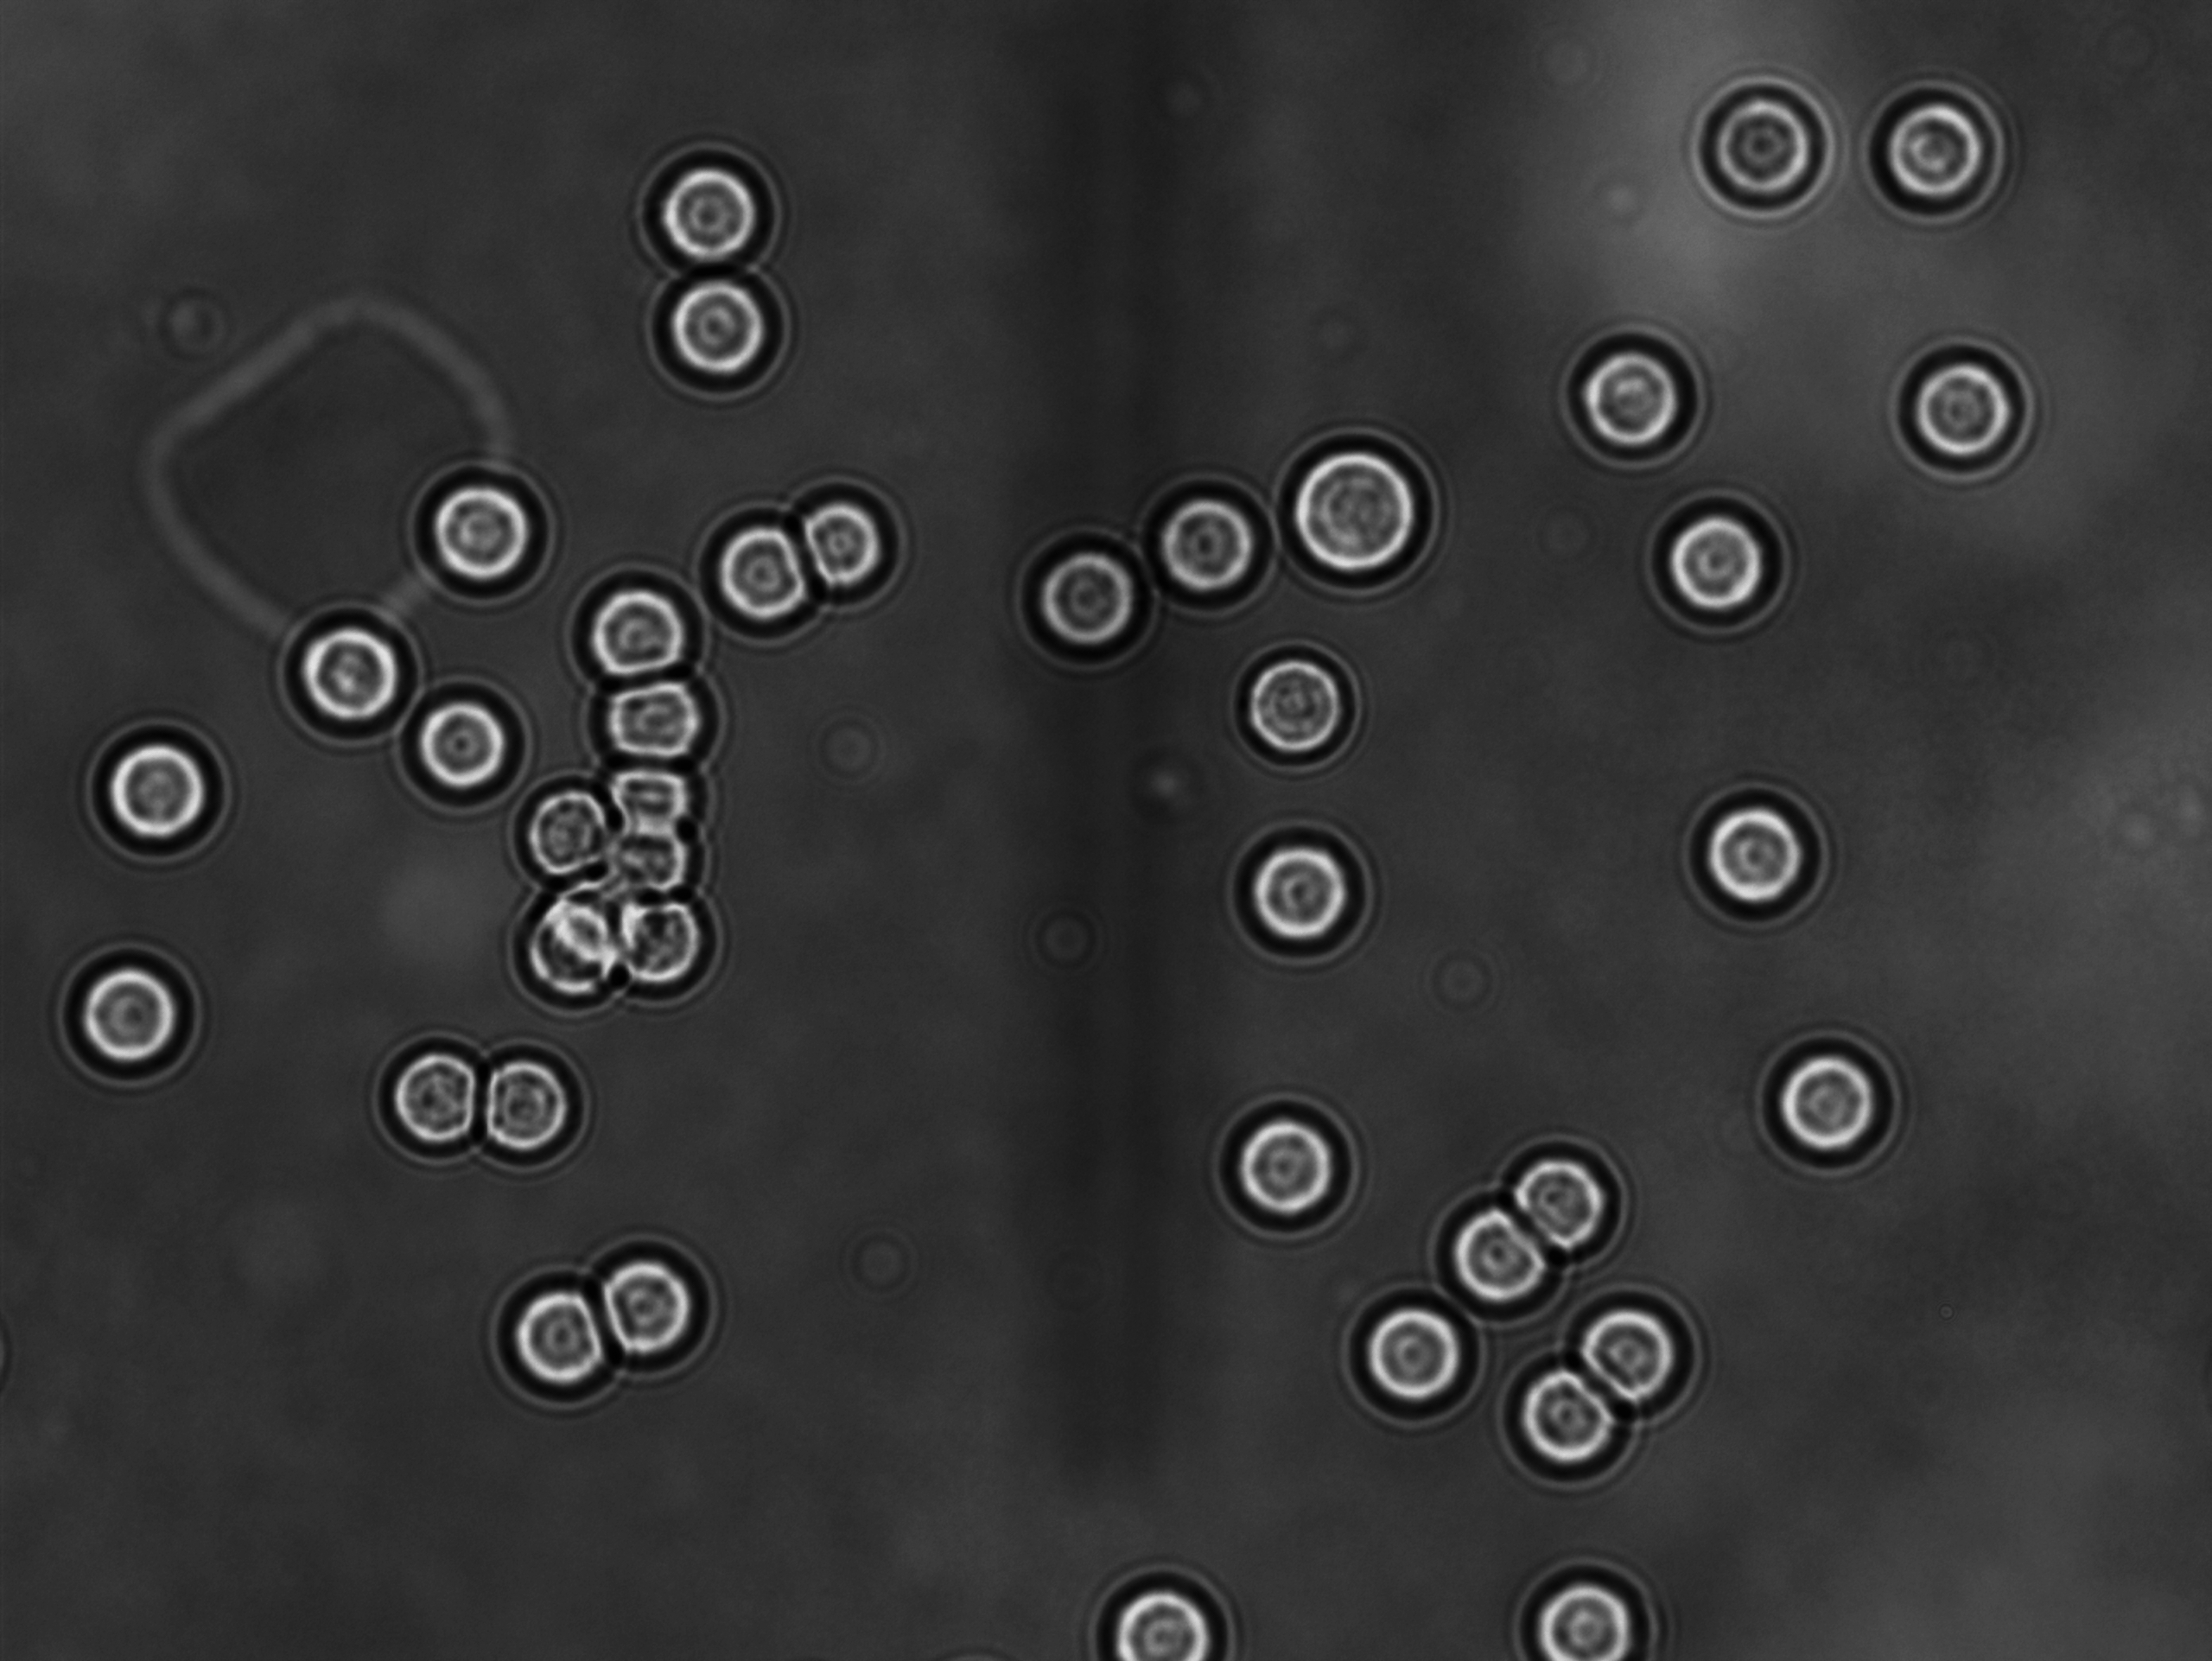depth:20: (1266, 400, 1465, 604), (35, 919, 227, 1113), (65, 687, 256, 881), (1547, 298, 1738, 492), (1322, 1256, 1504, 1453), (1870, 318, 2060, 504), (1668, 58, 1846, 249), (1860, 63, 2036, 251), (466, 1242, 645, 1425), (1219, 796, 1396, 981), (1668, 757, 1842, 939), (260, 579, 438, 755), (1193, 1080, 1371, 1256), (1743, 1015, 1919, 1192), (630, 136, 811, 307), (1479, 1340, 1654, 1514), (768, 443, 940, 619), (1631, 482, 1807, 653), (567, 1209, 736, 1384), (1554, 1263, 1731, 1431), (1404, 1165, 1575, 1335), (560, 548, 736, 710), (454, 1014, 619, 1185), (1127, 448, 1291, 621), (366, 1015, 530, 1185), (642, 255, 816, 414), (576, 633, 754, 789), (1000, 513, 1162, 682), (593, 722, 766, 881), (680, 478, 841, 647), (481, 855, 640, 1026), (408, 443, 563, 616), (1483, 1113, 1642, 1281), (379, 658, 541, 818), (595, 865, 754, 1026), (1219, 635, 1376, 790), (1497, 1534, 1683, 1661), (487, 754, 644, 900), (1069, 1537, 1251, 1661)
